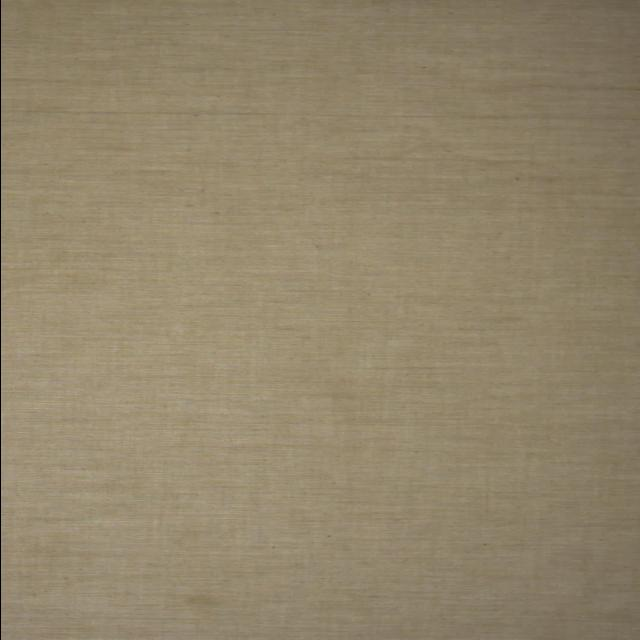dirty: (187, 594, 221, 608)
